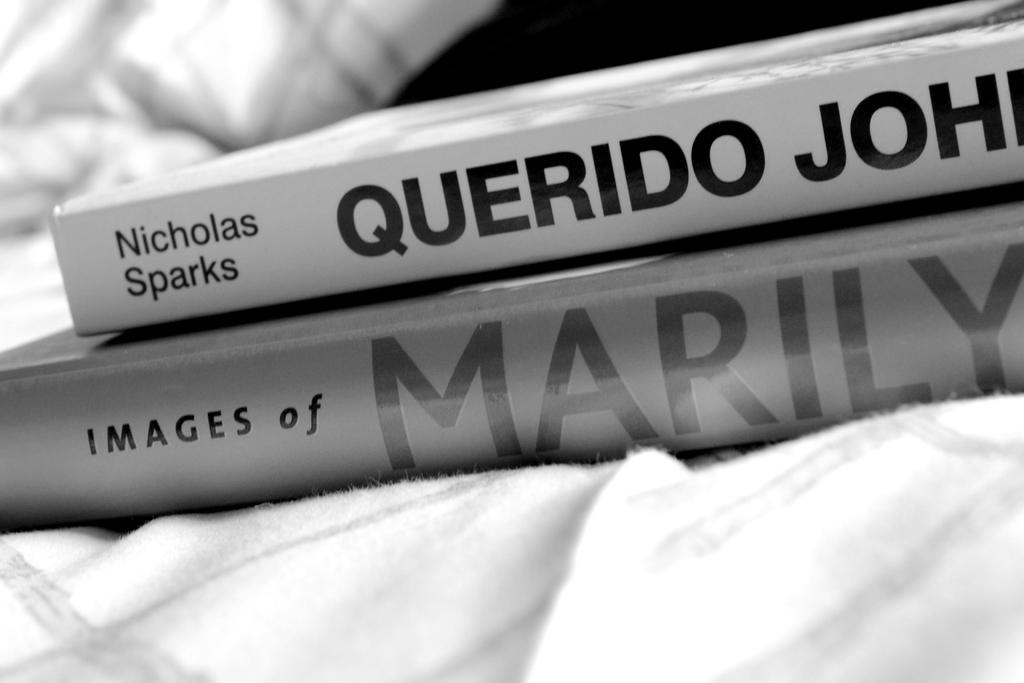Book: (0, 186, 1023, 537), (49, 0, 1023, 336)
